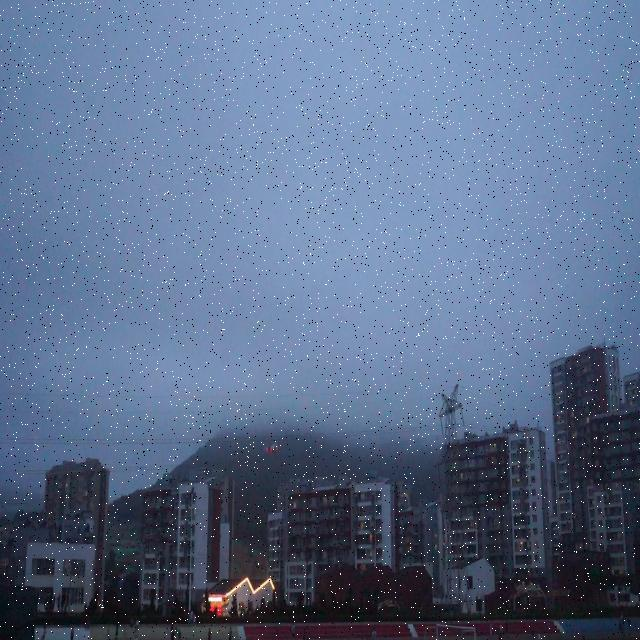UAV: (265, 446, 279, 454)
